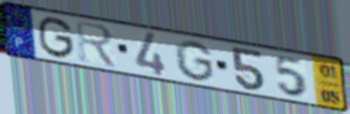4: (133, 29, 169, 78)
5: (229, 44, 267, 93), (275, 54, 310, 98)
G: (173, 39, 217, 84), (37, 16, 77, 61)
R: (73, 18, 120, 71)
